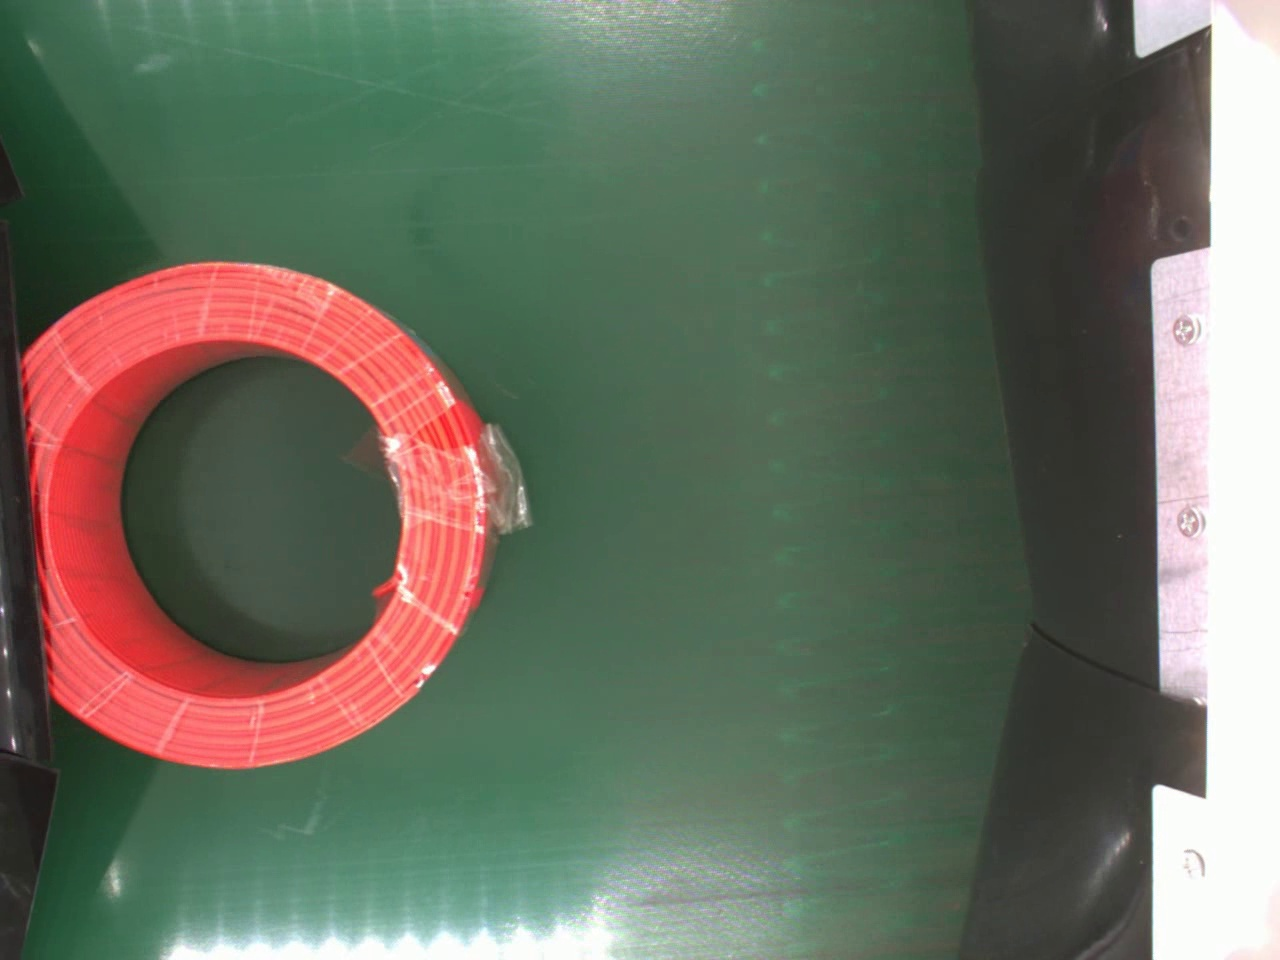red: (20, 261, 507, 772)
